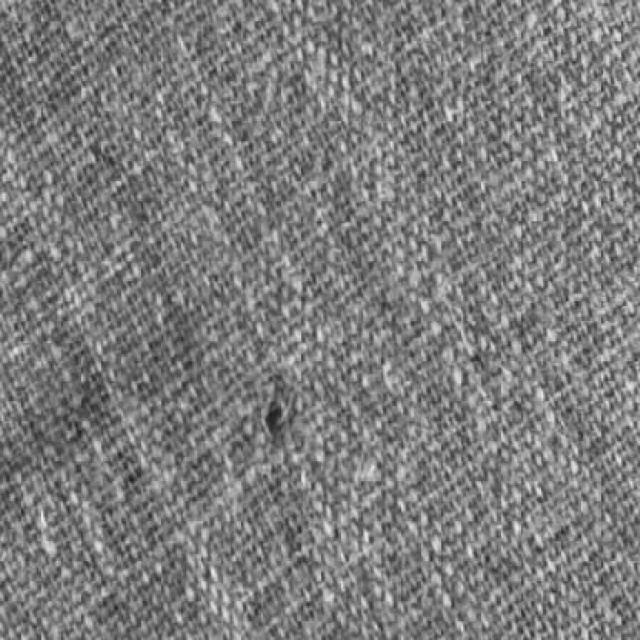other: (180, 320, 358, 496)
